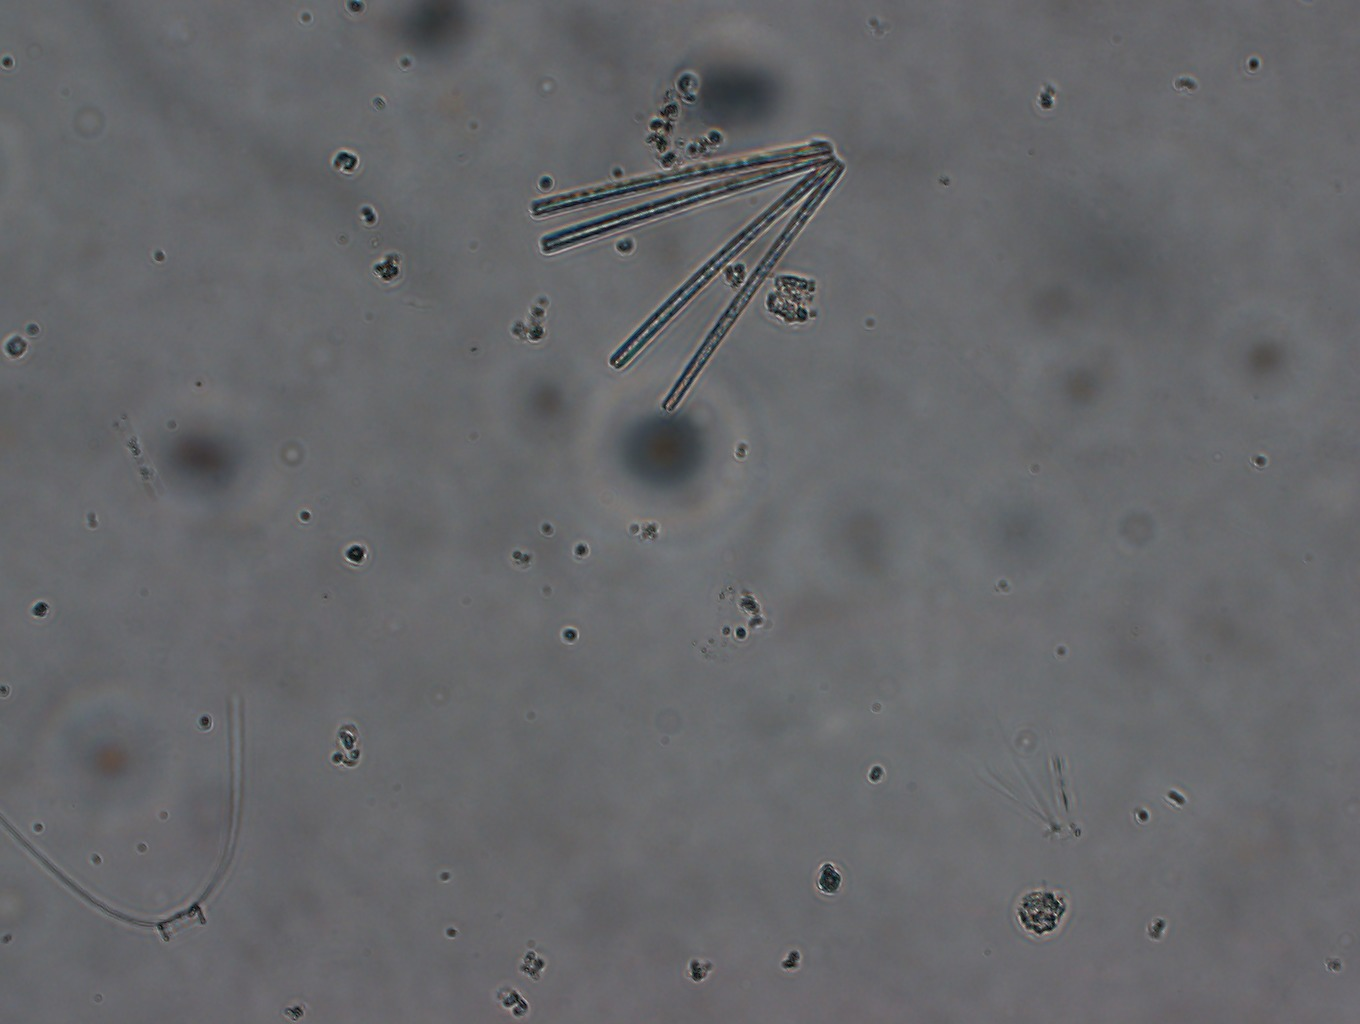chaetoceros: (1, 693, 253, 953)
thalassionema frauenfeldii: (520, 127, 847, 416)
